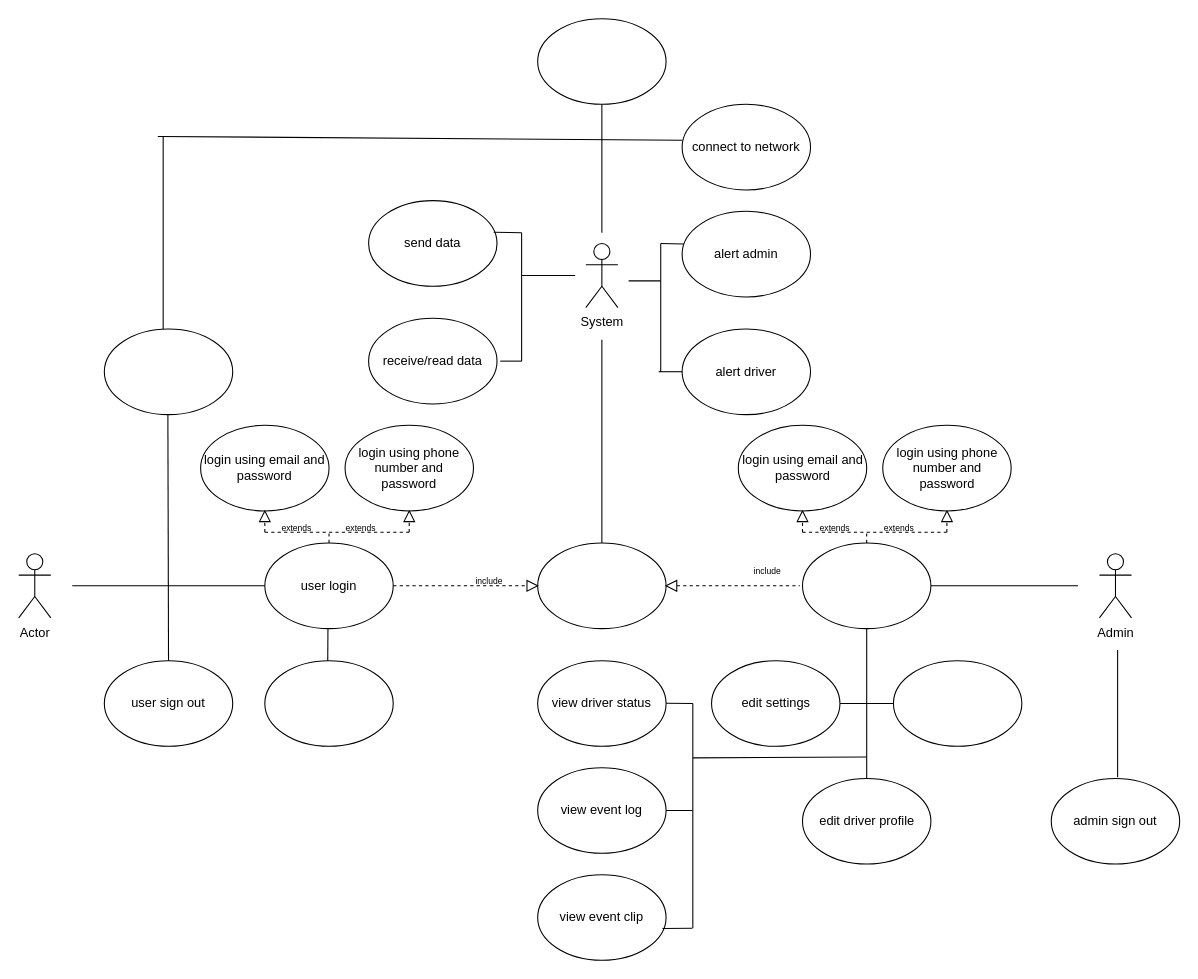
The diagram is 1198 pixels wide and 979 high, and some of its shapes have lost their labels. The shapes that lost their labels are listed below. From the top down, each one's box as (x1, y1, x2, y2) in pixels, then its label:
(537, 18, 666, 104): receive sensor data
(103, 328, 233, 415): contact emergency contact
(537, 542, 666, 629): authenticate user
(801, 542, 931, 629): admin login
(264, 660, 393, 746): edit preferences
(892, 660, 1022, 746): create driver profile
